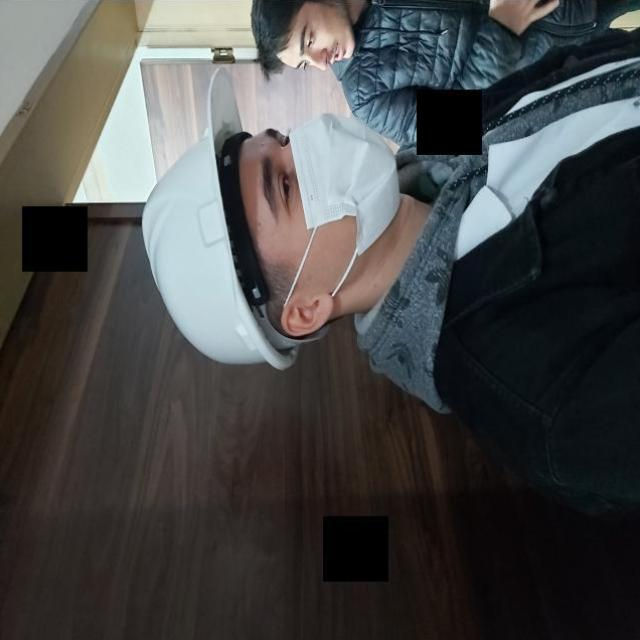helmet: (118, 40, 328, 410)
